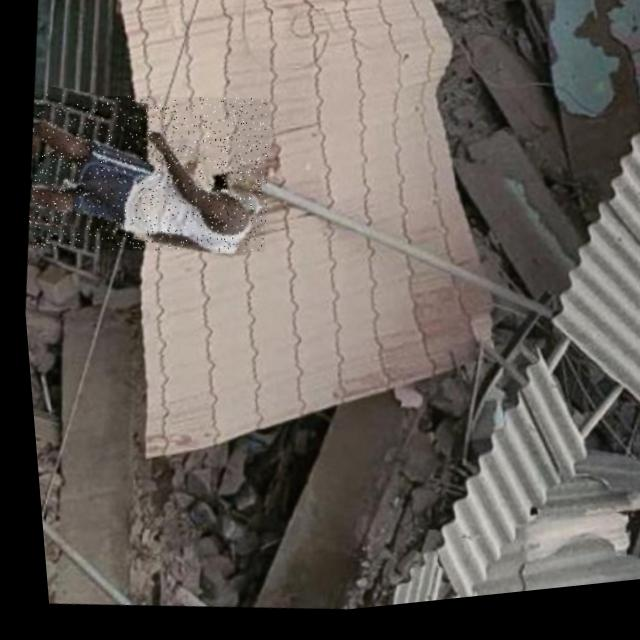Person in Rubble: (13, 75, 277, 276)
